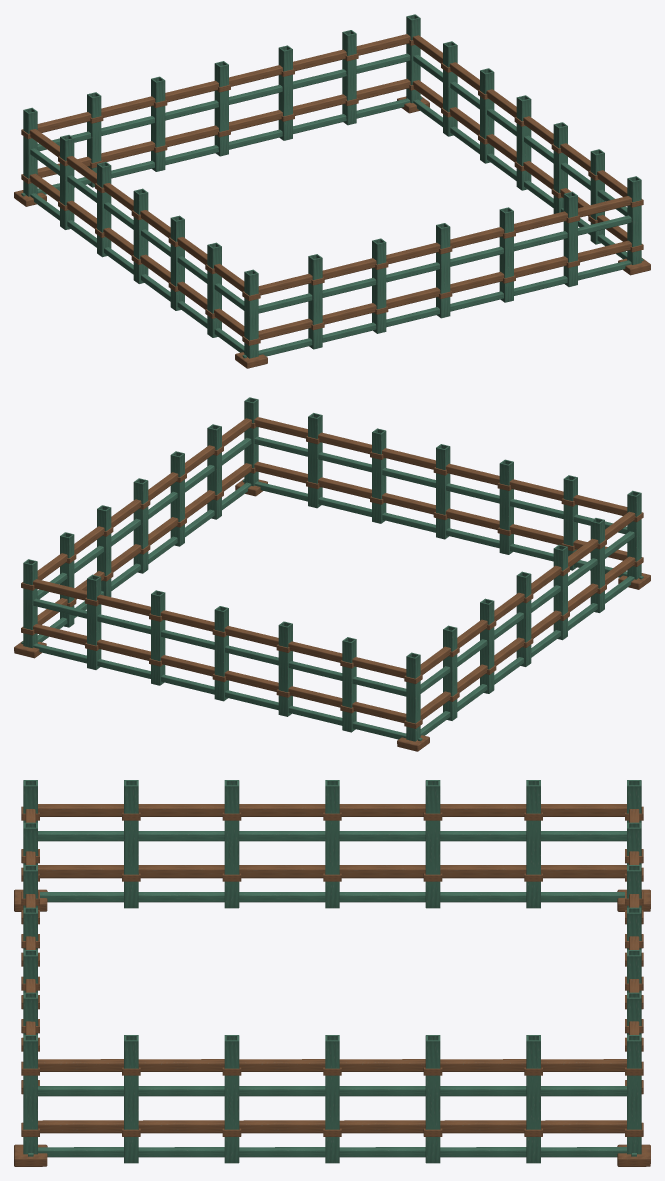
3 views of the same model, one above another, from view 1: azimuth 30°, elevation 25°; view 2: azimuth 150°, elevation 25°; view 3: azimuth 270°, elevation 25° (orthographic). The views are drawn at different scales.
Parts seen in each view (by area): view 1: Tier 0 side 2 post 4, Tier 0 side 0 post 3, Tier 0 side 0 post 1, Tier 0 side 0 post 2, Tier 0 side 2 post 1, Tier 0 side 2 post 2, Tier 0 side 0 post 5, Tier 0 side 2 post 3, Tier 0 side 0 post 0, Tier 0 side 0 post 4, Tier 0 side 3 post 3, Tier 0 side 1 post 3 (+35 smaller); view 2: Tier 0 side 2 post 3, Tier 0 side 2 post 5, Tier 0 side 0 post 2, Tier 0 side 2 post 4, Tier 0 side 0 post 4, Tier 0 side 0 post 5, Tier 0 side 2 post 1, Tier 0 side 3 post 0, Tier 0 side 2 post 2, Tier 0 side 0 post 3, Tier 0 side 1 post 3, Tier 0 side 3 post 3 (+35 smaller); view 3: Tier 0 side 3 post 2, Tier 0 side 3 post 4, Tier 0 side 1 post 2, Tier 0 side 1 post 4, Tier 0 side 3 post 1, Tier 0 side 3 post 3, Tier 0 side 3 post 5, Tier 0 side 1 post 1, Tier 0 side 1 post 3, Tier 0 side 1 post 5, Tier 0 side 1 post 0, Tier 0 side 2 post 0 (+50 smaller).
Boxes of the visible parts, bbox=[...] form: Tier 0 side 2 post 4: bbox=[151, 76, 165, 171]; Tier 0 side 0 post 3: bbox=[436, 223, 450, 318]; Tier 0 side 0 post 1: bbox=[308, 254, 322, 349]; Tier 0 side 0 post 2: bbox=[372, 238, 386, 333]; Tier 0 side 2 post 1: bbox=[342, 30, 356, 125]; Tier 0 side 2 post 2: bbox=[278, 45, 292, 140]; Tier 0 side 0 post 5: bbox=[563, 191, 577, 286]; Tier 0 side 2 post 3: bbox=[214, 61, 228, 156]; Tier 0 side 0 post 0: bbox=[244, 269, 258, 358]; Tier 0 side 0 post 4: bbox=[499, 207, 513, 302]; Tier 0 side 3 post 3: bbox=[133, 188, 148, 283]; Tier 0 side 1 post 3: bbox=[516, 95, 531, 190]; Tier 0 side 2 post 3: bbox=[214, 606, 228, 701]; Tier 0 side 2 post 5: bbox=[342, 637, 356, 732]; Tier 0 side 0 post 2: bbox=[499, 459, 513, 554]; Tier 0 side 2 post 4: bbox=[278, 621, 292, 716]; Tier 0 side 0 post 4: bbox=[372, 428, 386, 523]; Tier 0 side 0 post 5: bbox=[308, 413, 322, 508]; Tier 0 side 2 post 1: bbox=[87, 574, 101, 669]; Tier 0 side 3 post 0: bbox=[406, 652, 420, 741]; Tier 0 side 2 post 2: bbox=[151, 590, 165, 685]; Tier 0 side 0 post 3: bbox=[436, 444, 450, 539]; Tier 0 side 1 post 3: bbox=[133, 478, 148, 573]; Tier 0 side 3 post 3: bbox=[516, 571, 531, 666]; Tier 0 side 3 post 2: bbox=[425, 780, 440, 908]; Tier 0 side 3 post 4: bbox=[224, 780, 239, 908]; Tier 0 side 1 post 2: bbox=[224, 1035, 239, 1163]; Tier 0 side 1 post 4: bbox=[425, 1035, 440, 1163]; Tier 0 side 3 post 1: bbox=[526, 780, 540, 908]; Tier 0 side 3 post 3: bbox=[325, 780, 339, 908]; Tier 0 side 3 post 5: bbox=[124, 780, 138, 908]; Tier 0 side 1 post 1: bbox=[124, 1035, 138, 1163]; Tier 0 side 1 post 3: bbox=[325, 1035, 339, 1163]; Tier 0 side 1 post 5: bbox=[526, 1035, 540, 1163]; Tier 0 side 1 post 0: bbox=[23, 1035, 37, 1154]; Tier 0 side 2 post 0: bbox=[627, 1035, 641, 1154].
Size of the model in its own units: 2.85 by 0.6034 by 2.85.
2 materials, 2 textured.
